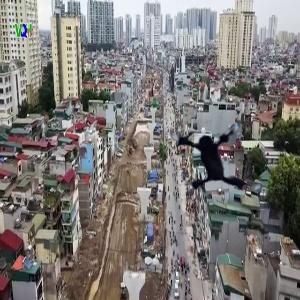drone: (159, 93, 283, 217)
